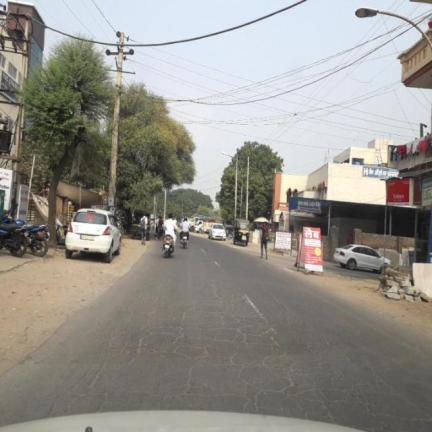Road: (0, 237, 431, 431)
